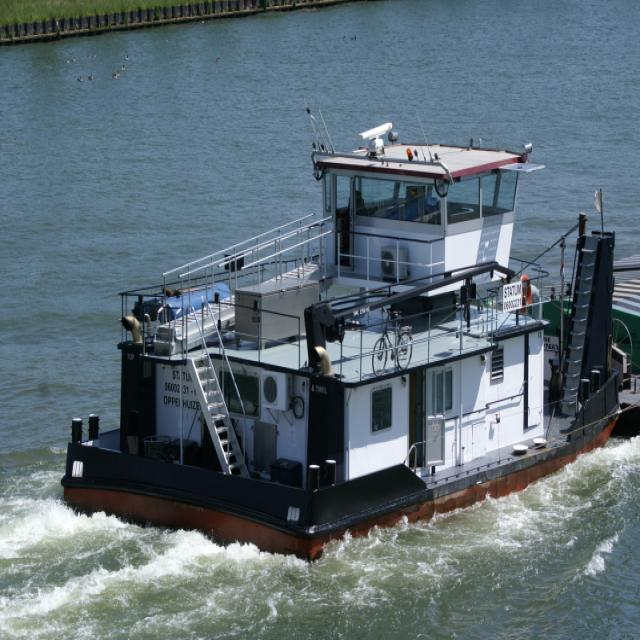tugboat: (55, 93, 640, 577)
